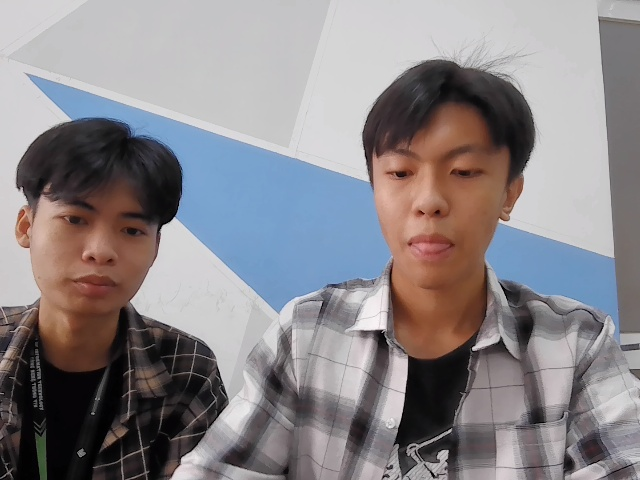human: (360, 56, 535, 289), (12, 121, 181, 319)
